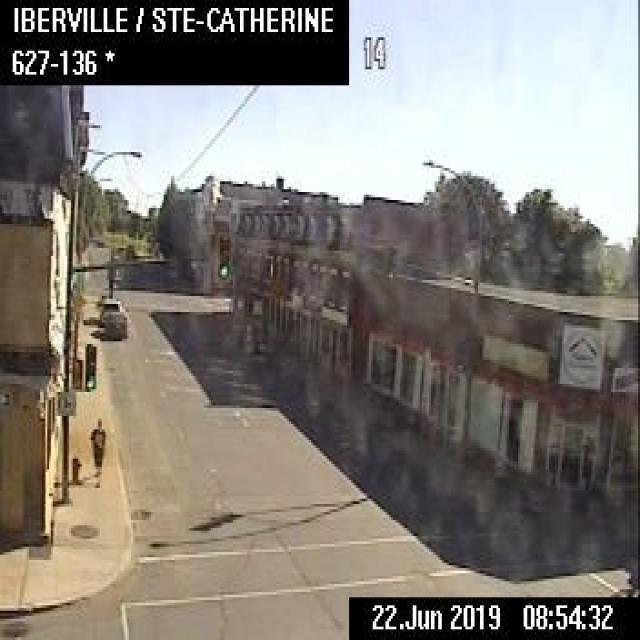pedestrian: (87, 416, 104, 485)
vehicle: (98, 297, 124, 325), (103, 310, 127, 339)
